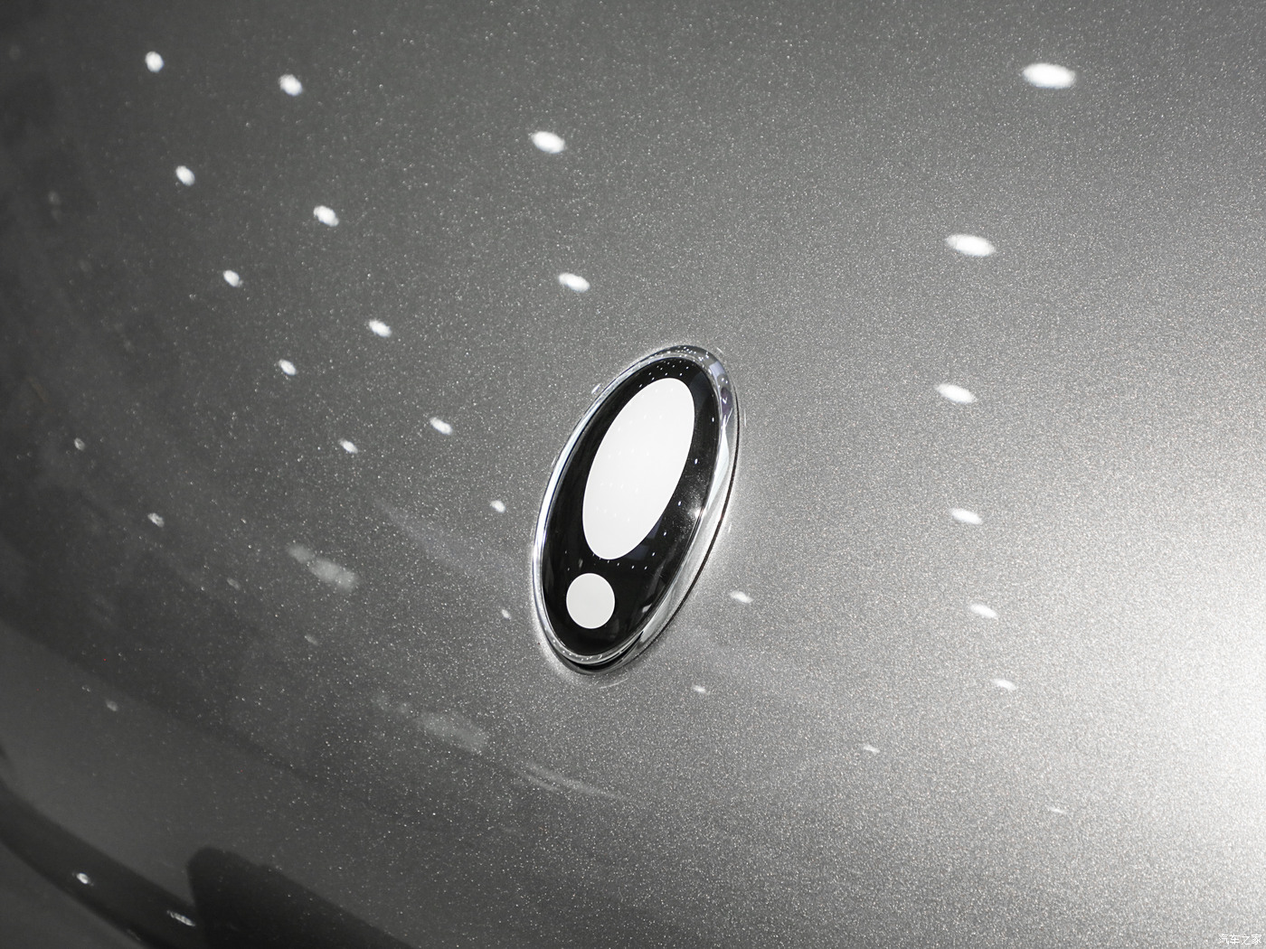ORA: (533, 345, 738, 668)
